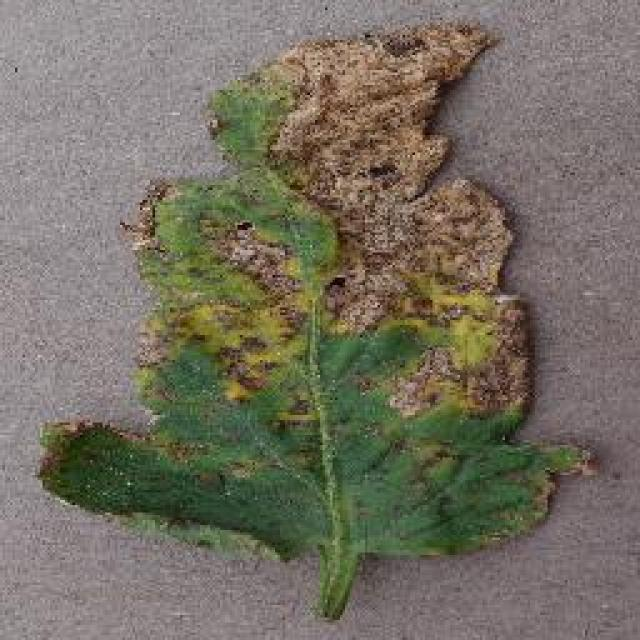Tomato___Bacterial_spot: (25, 25, 601, 623)
